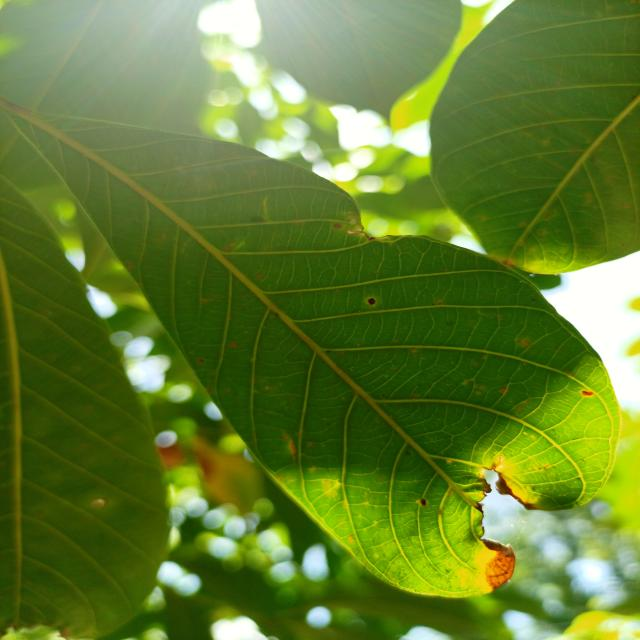Colletotrichum: (368, 298, 376, 305), (421, 499, 426, 506)
Leaf-Blight: (483, 538, 516, 588)
